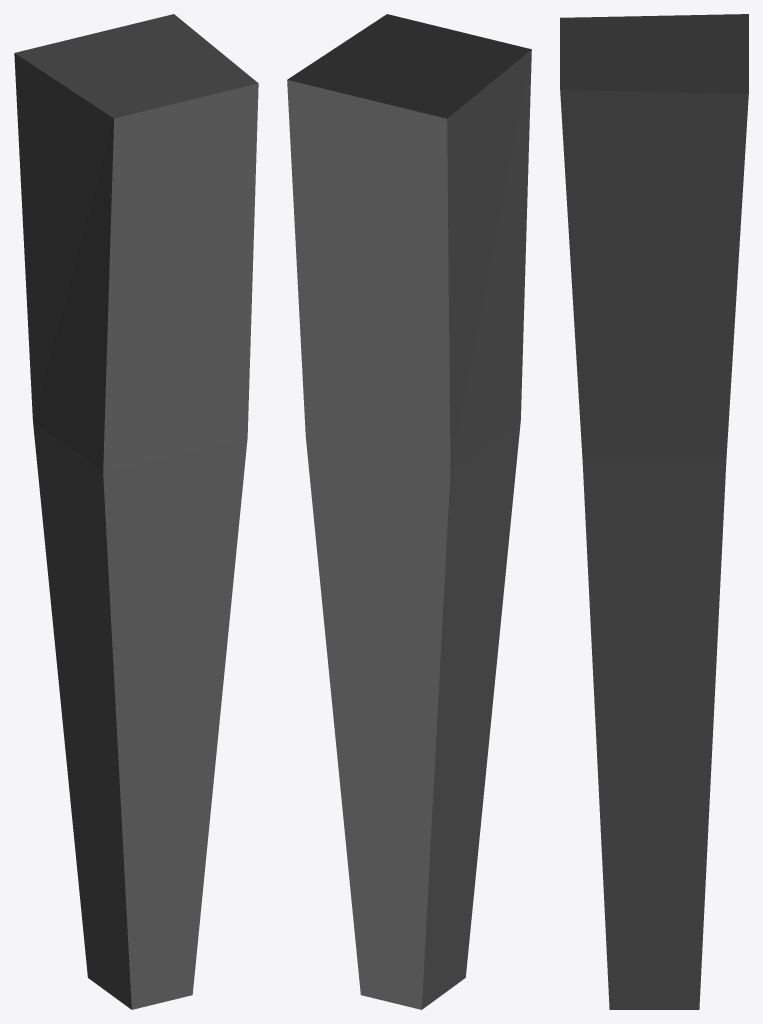
The model's file is gun_0.glb.
The picture shows the model from 3 angles, left to right: view 1: azimuth 30°, elevation 25°; view 2: azimuth 150°, elevation 25°; view 3: azimuth 270°, elevation 25°; orthographic projection. The views are drawn at different scales.
Visible parts, largest first — view 1: group_13; view 2: group_13; view 3: group_13.
Boxes of the visible parts, x1,y1,x2,y2 form: group_13: [14, 14, 258, 1009]; group_13: [287, 14, 531, 1009]; group_13: [560, 14, 748, 1009].
Size of the model in its own units: 42 by 231 by 42.
Materials: 1 (1 with a texture image).
